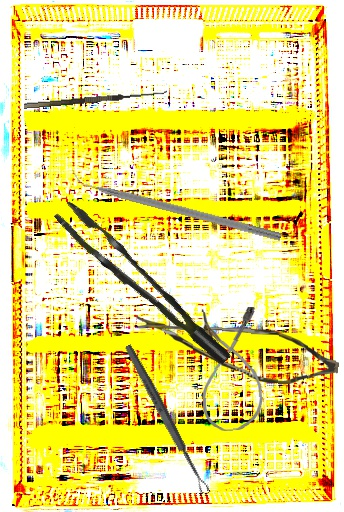Cannula: (199, 306, 264, 432)
Chopper: (68, 165, 285, 241)
Hook Surgical: (23, 83, 168, 109)
Micro Scissor: (131, 315, 341, 386)
Surgical Spoon: (122, 343, 211, 495)
Tissue Forceps: (52, 185, 232, 386)
